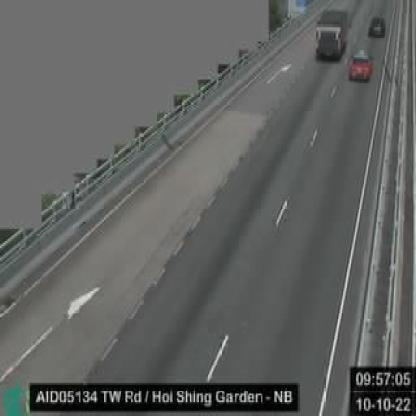Car: (350, 50, 372, 82), (369, 16, 384, 36)
Truck: (316, 7, 348, 60)
